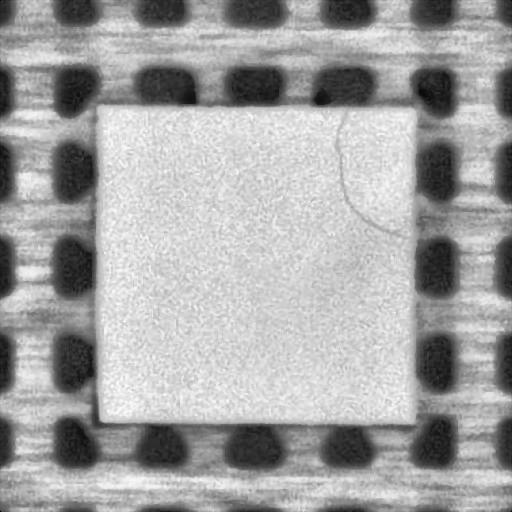DIE_CRACK: (336, 108, 412, 243)
